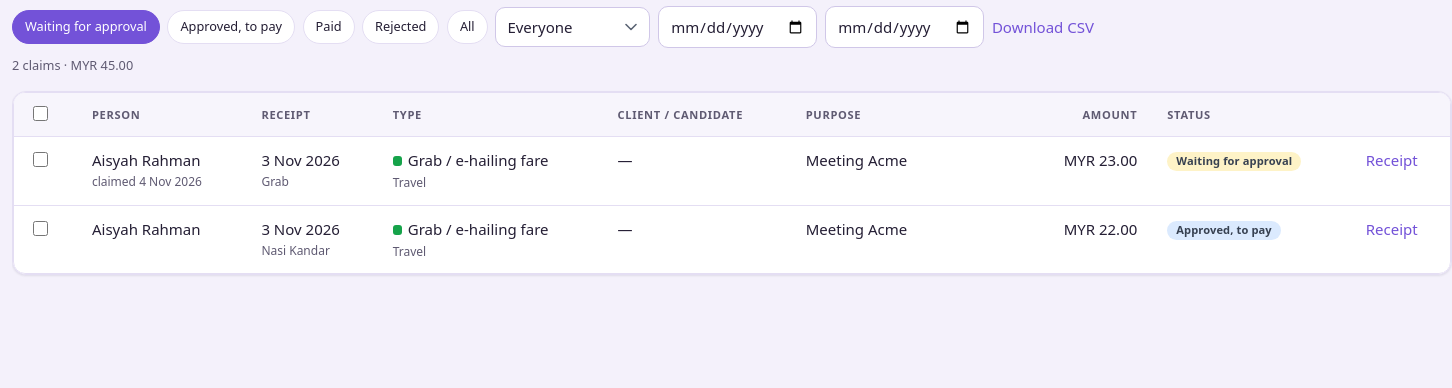
approves what is waiting and pays what is approved
Later steps or results of the test are not shown.
Click the checkbox named "Select all" at (40, 114), box [33,106,48,121]
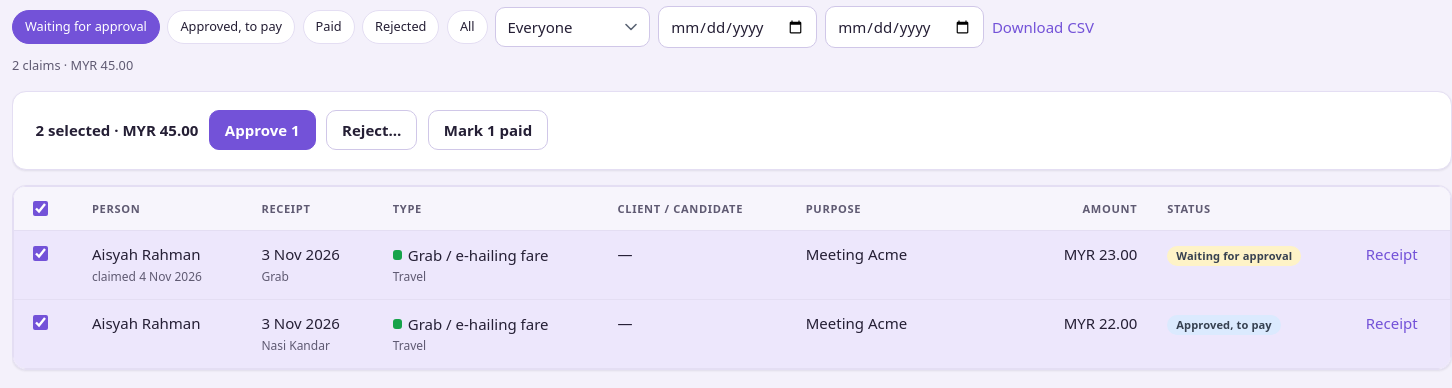
Check: the element named "Selected claims" shows "2 selected · MYR 45.00", box [12,90,1451,170]
